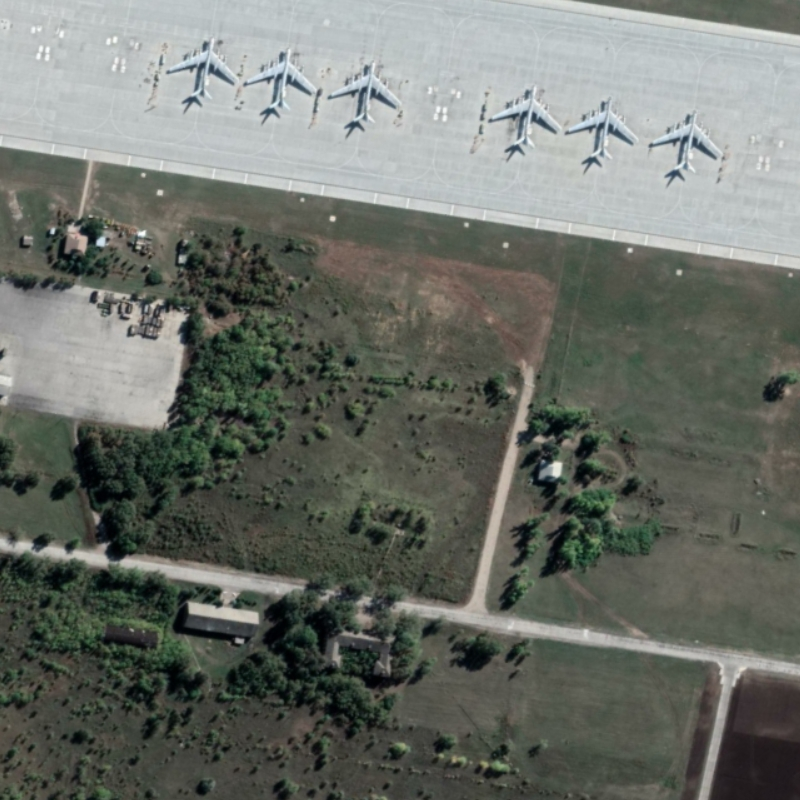A17: (646, 108, 726, 179), (566, 92, 639, 168), (163, 34, 240, 106), (241, 44, 320, 114), (488, 82, 564, 154), (326, 57, 403, 126)
